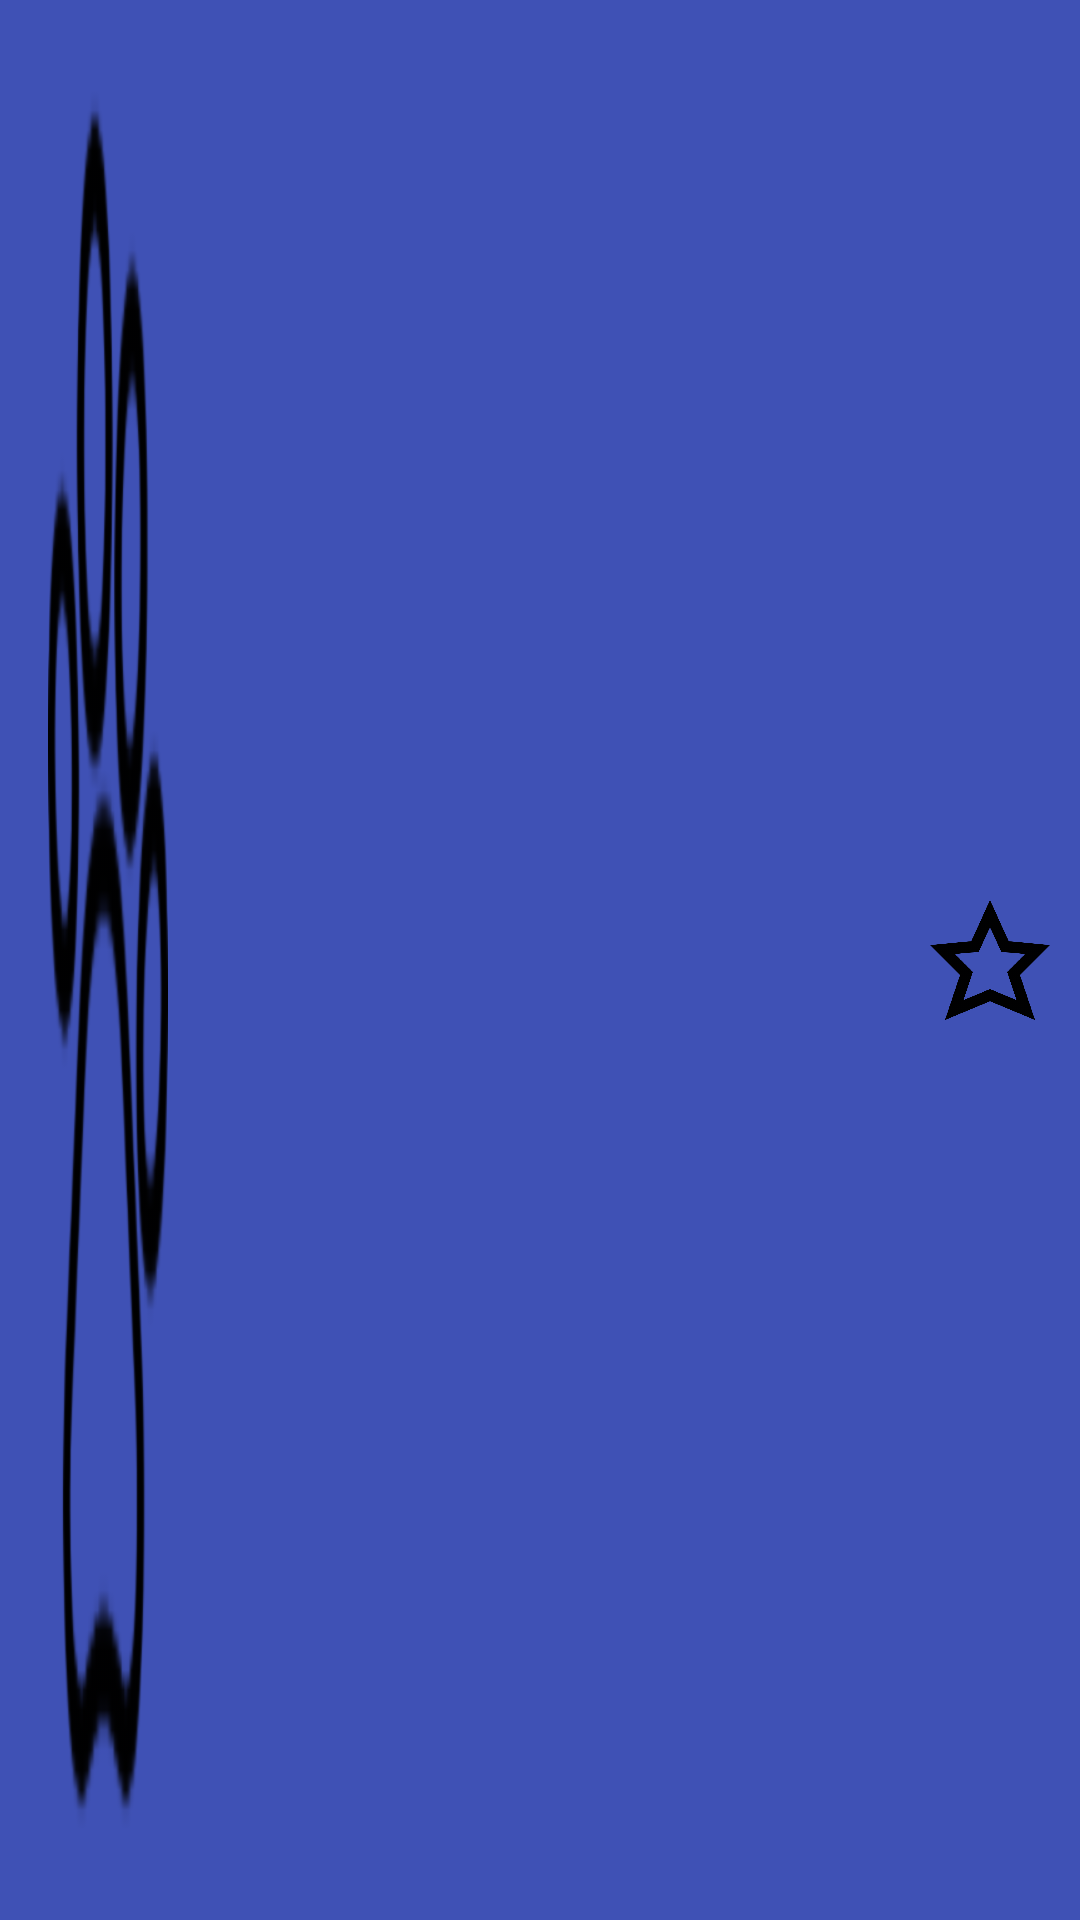

Icons on this 1080x1920 Android screen, each with its box as rect(x1, y1, x2, y2):
star: rect(930, 901, 1050, 1020)
